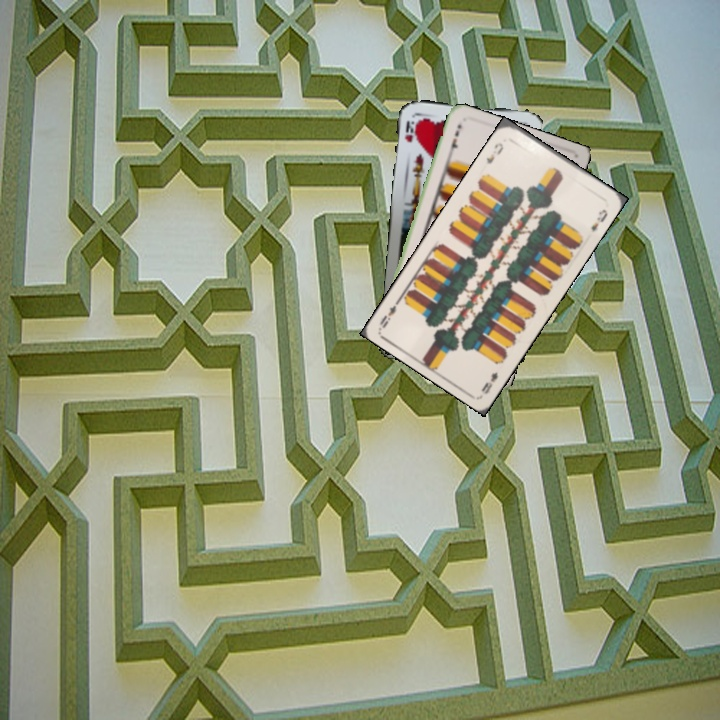E7: (446, 120, 464, 158)
E9: (482, 138, 506, 166), (477, 368, 501, 396)
HK: (400, 115, 420, 144)
